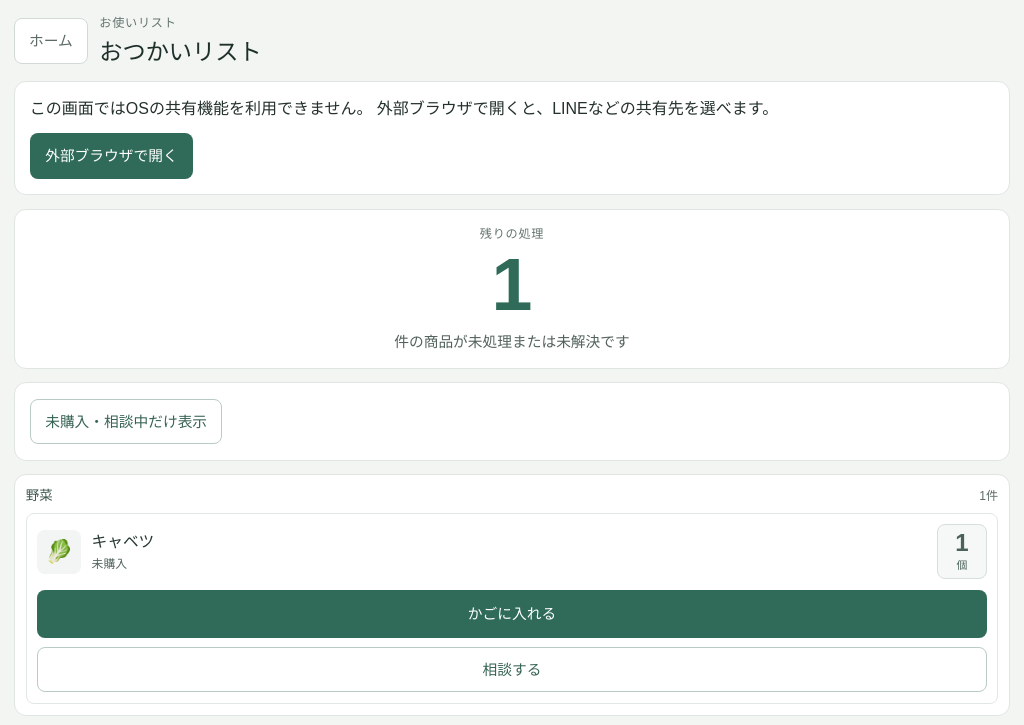
Scenario: ShoppingListPage buyer flow › puts a quantity-one item without conditions in the cart in one tap
Click the button "かごに入れる": [512, 614] box [37,590,987,638]
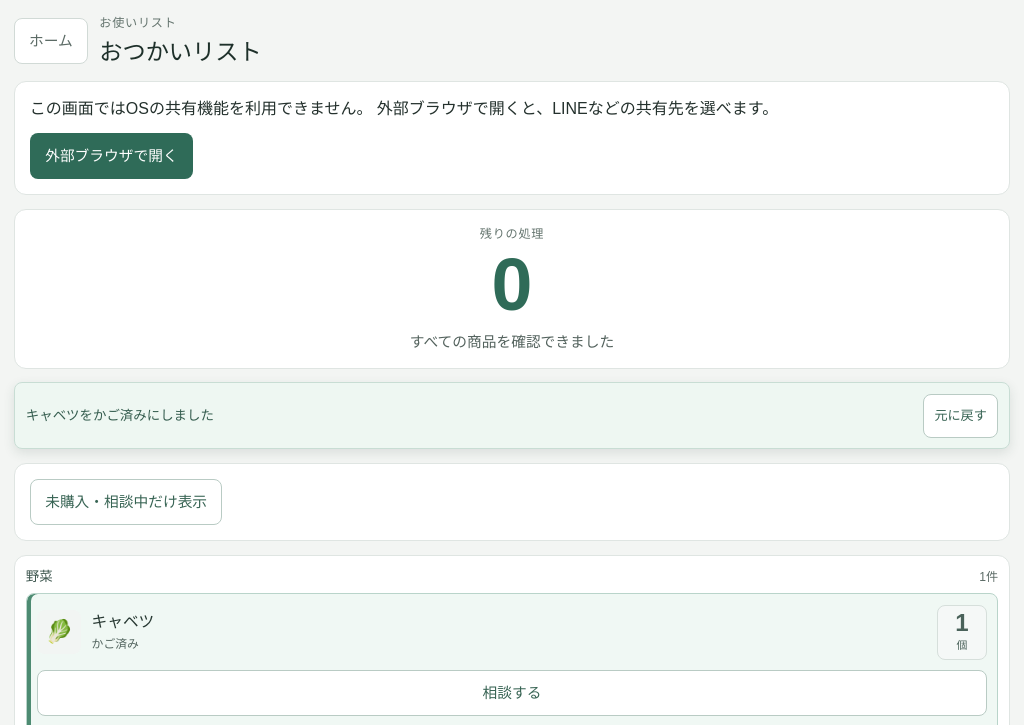
expect the button "元に戻す" is shown: met, box [923,394,998,438]
